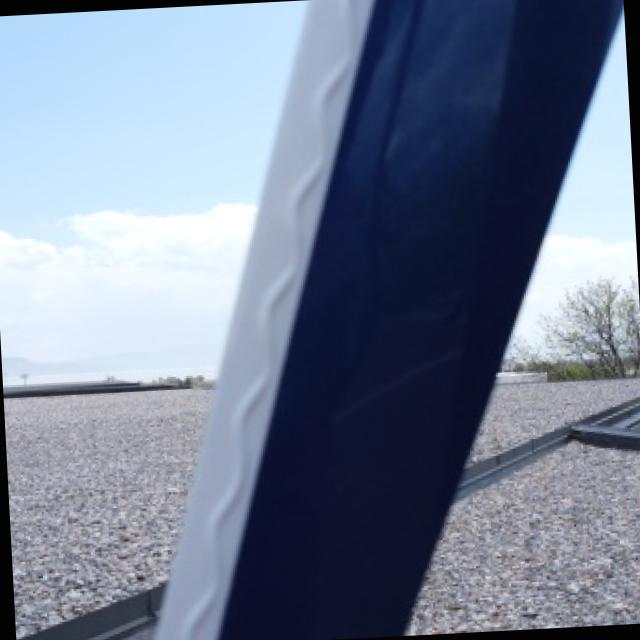healthy: (161, 0, 624, 640)
